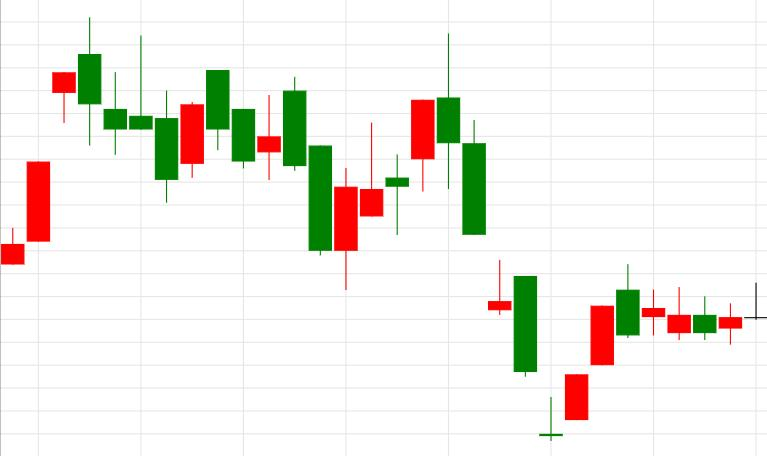morning_star_rise: (437, 32, 588, 442)
